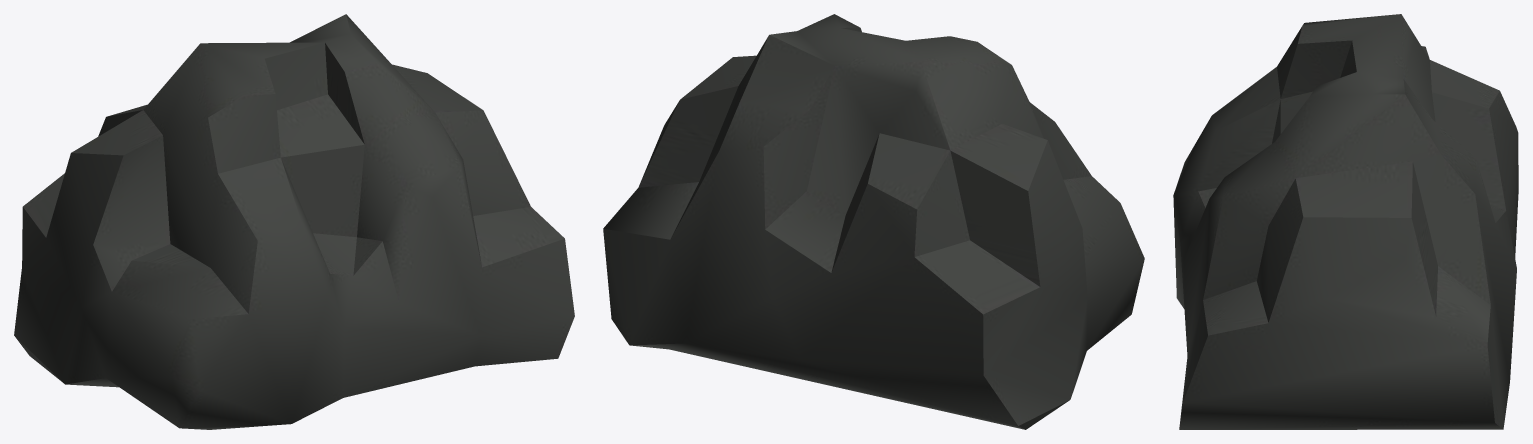
Rendered from rock1.fbx.
3 views of the same model, side by side, from view 1: azimuth 30°, elevation 25°; view 2: azimuth 150°, elevation 25°; view 3: azimuth 270°, elevation 25° (orthographic).
Visible parts, largest first — view 1: rock1_1; view 2: rock1_1; view 3: rock1_1.
Boxes of the visible parts, x1=… form: rock1_1: x1=14, y1=14, x2=574, y2=429; rock1_1: x1=603, y1=14, x2=1144, y2=429; rock1_1: x1=1173, y1=14, x2=1518, y2=429.
Bounding box in the file's own units: 286 × 202 × 207.
Materials: 1 (1 with a texture image).
